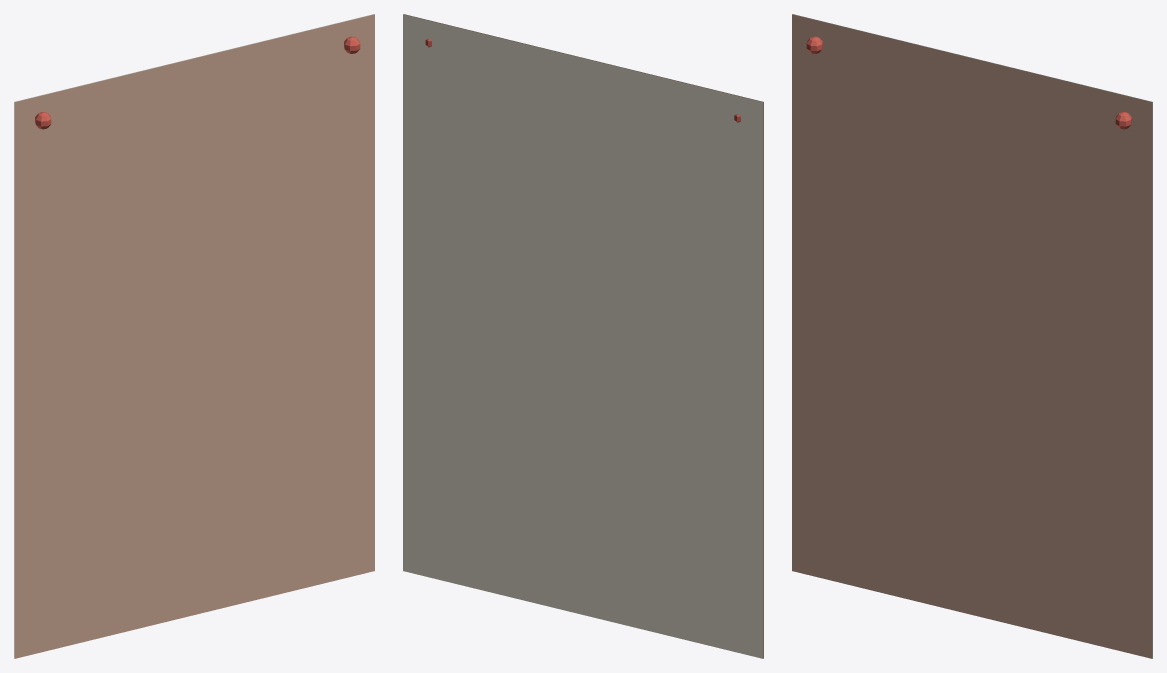
File: Garage_Card_Poster_A.glb
The picture shows the model from 3 angles, left to right: view 1: azimuth 30°, elevation 25°; view 2: azimuth 150°, elevation 25°; view 3: azimuth 330°, elevation 25°; orthographic projection.
Parts seen in each view (by area): view 1: Garage_Card_Poster_A; view 2: Garage_Card_Poster_A; view 3: Garage_Card_Poster_A.
Boxes of the visible parts, left/top/right/bottom form: Garage_Card_Poster_A: left=14, top=14, right=374, bottom=658; Garage_Card_Poster_A: left=403, top=14, right=763, bottom=658; Garage_Card_Poster_A: left=792, top=14, right=1152, bottom=658.
Bounding box in the file's own units: 0.42 × 0.62 × 0.0171.
